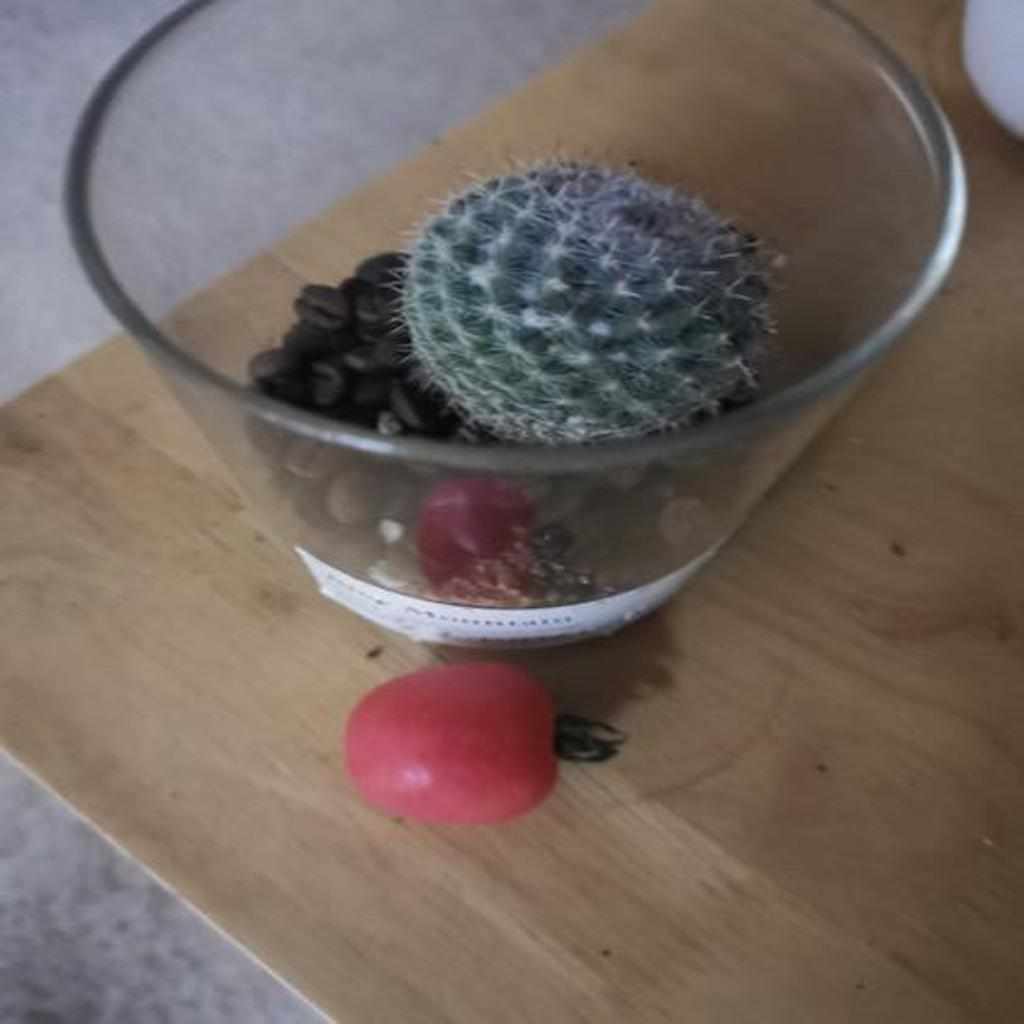tomato: (341, 665, 597, 822)
